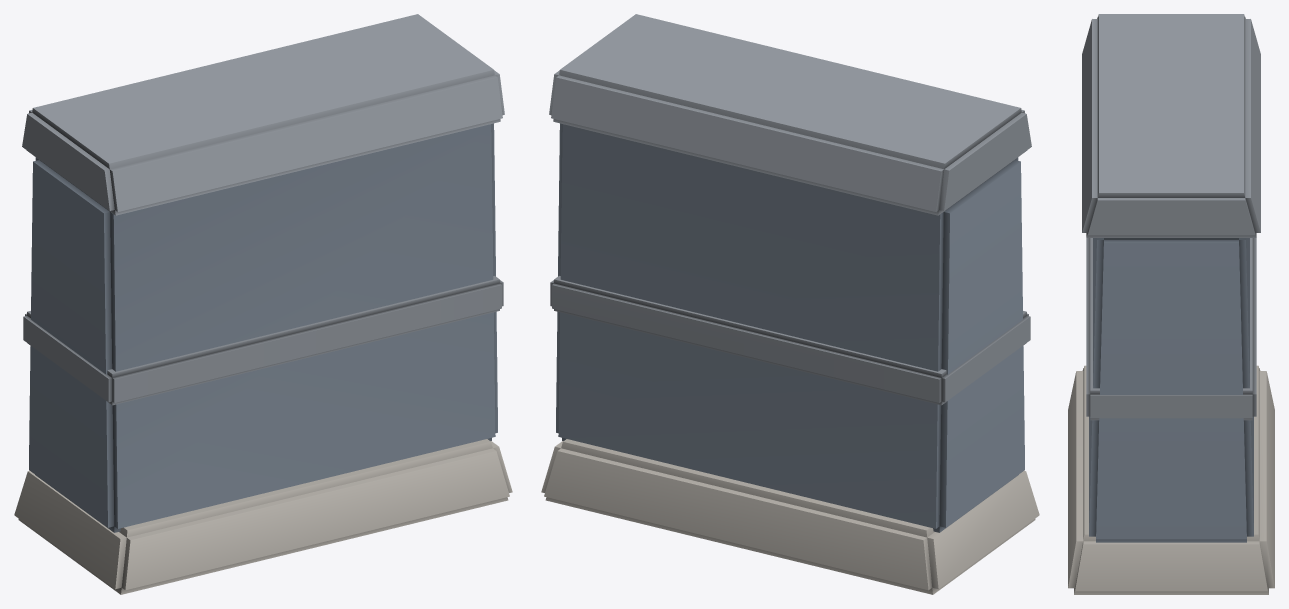
File: wall_lv2_connector_lod0.glb
The picture shows the model from 3 angles, left to right: view 1: azimuth 30°, elevation 25°; view 2: azimuth 150°, elevation 25°; view 3: azimuth 270°, elevation 25°; orthographic projection. The views are drawn at different scales.
Visible parts, largest first — view 1: wall_lv2_connector; view 2: wall_lv2_connector; view 3: wall_lv2_connector.
Boxes of the visible parts, bbox=[...] form: wall_lv2_connector: bbox=[14, 14, 512, 594]; wall_lv2_connector: bbox=[541, 14, 1039, 594]; wall_lv2_connector: bbox=[1068, 14, 1274, 594].
Size of the model in its own units: 1.59 by 1.61 by 0.7515.
